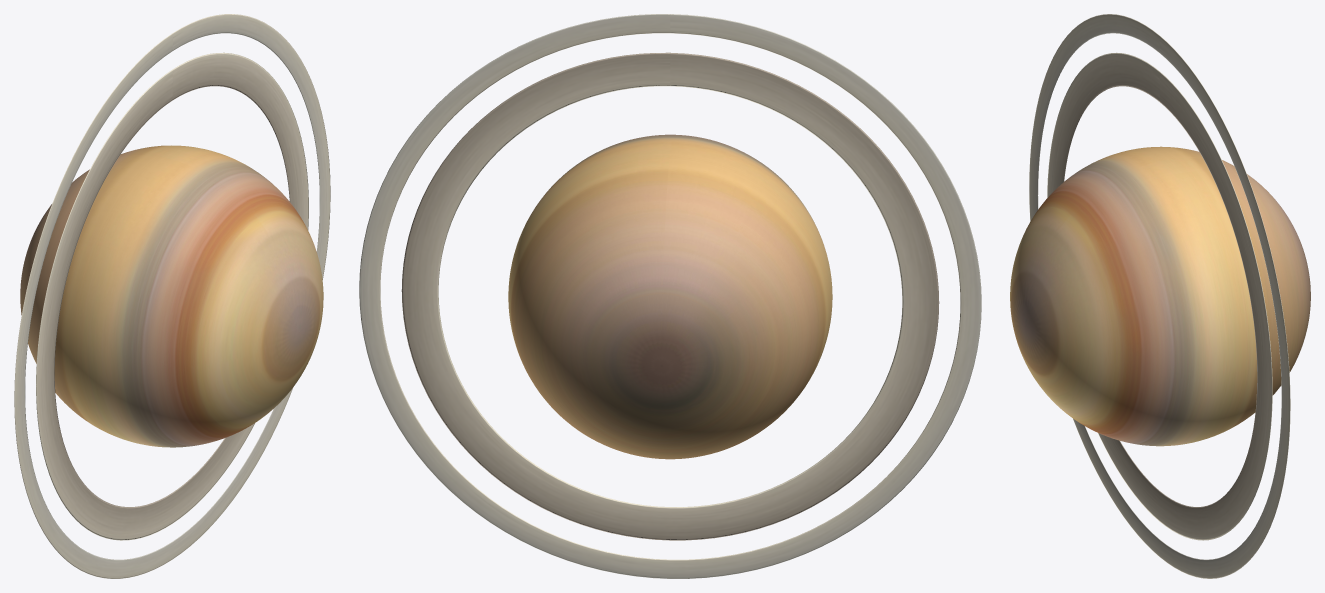
Rendered from 13906_Saturn_v1_l3.obj.
3 renders of one model, left to right at view 1: azimuth 30°, elevation 25°; view 2: azimuth 150°, elevation 25°; view 3: azimuth 270°, elevation 25°, orthographic. The views are drawn at different scales.
Visible parts, largest first — view 1: Saturn; view 2: Saturn; view 3: Saturn.
Boxes of the visible parts, x1,y1,x2,y2 form: Saturn: (14, 14, 330, 578); Saturn: (359, 14, 981, 578); Saturn: (1010, 14, 1310, 578).
Size of the model in its own units: 861 by 966 by 505.
1 material, 1 textured.
